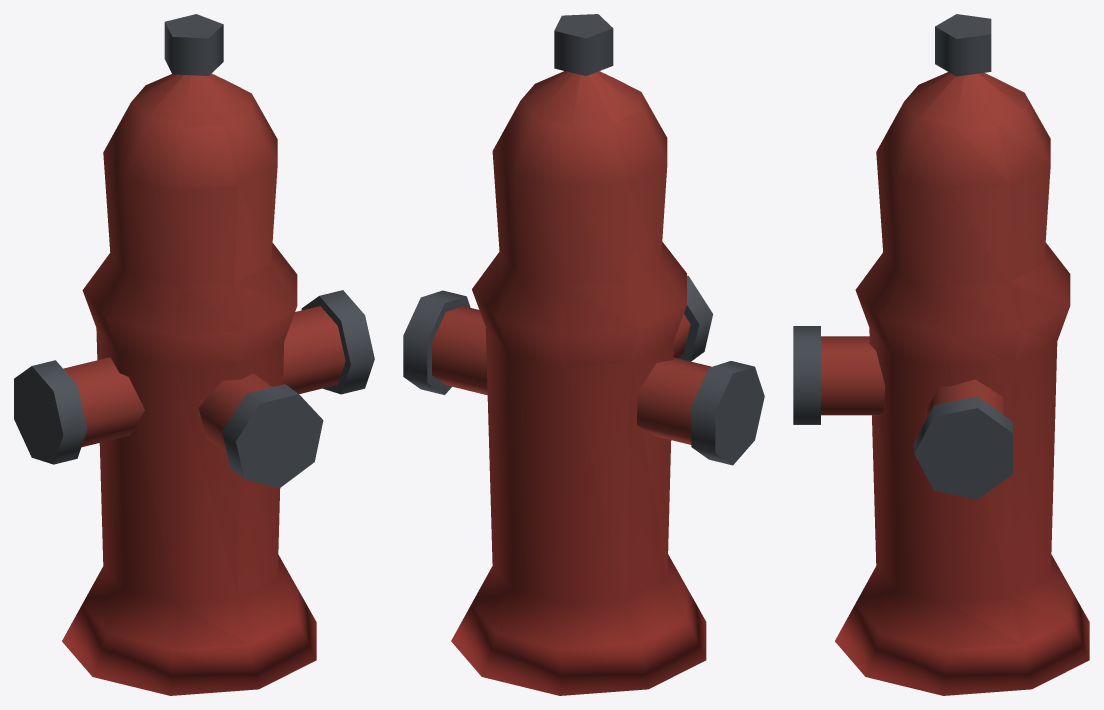
The model's file is metropolis_fire_hydrant_01.glb.
The picture shows the model from 3 angles, left to right: view 1: azimuth 30°, elevation 25°; view 2: azimuth 150°, elevation 25°; view 3: azimuth 270°, elevation 25°; orthographic projection.
Parts seen in each view (by area): view 1: metropolis_fire_hydrant_01; view 2: metropolis_fire_hydrant_01; view 3: metropolis_fire_hydrant_01.
Boxes of the visible parts, <box> form: metropolis_fire_hydrant_01: <box>14,14,374,695</box>; metropolis_fire_hydrant_01: <box>403,14,764,695</box>; metropolis_fire_hydrant_01: <box>793,14,1089,695</box>.
Bounding box in the file's own units: 0.52 × 0.98 × 0.4285.
